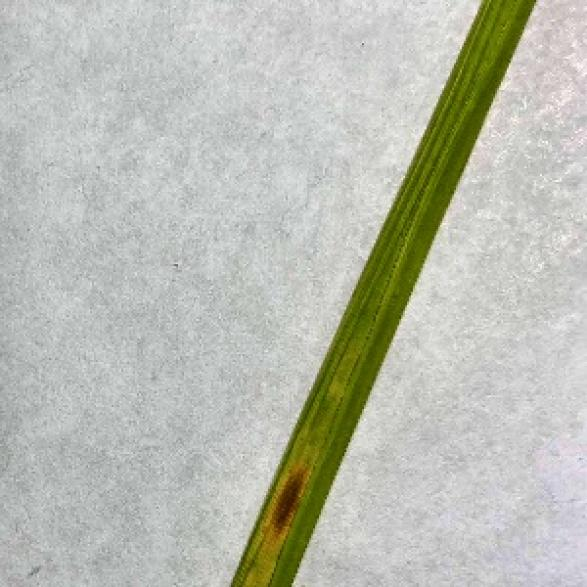Leaf_smut: (235, 454, 364, 577)
